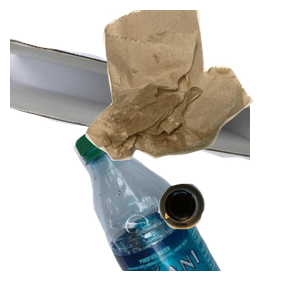cardboard: (10, 35, 250, 188)
glass: (156, 181, 300, 300)
plastic: (71, 120, 300, 300)
trash: (83, 10, 300, 163)
